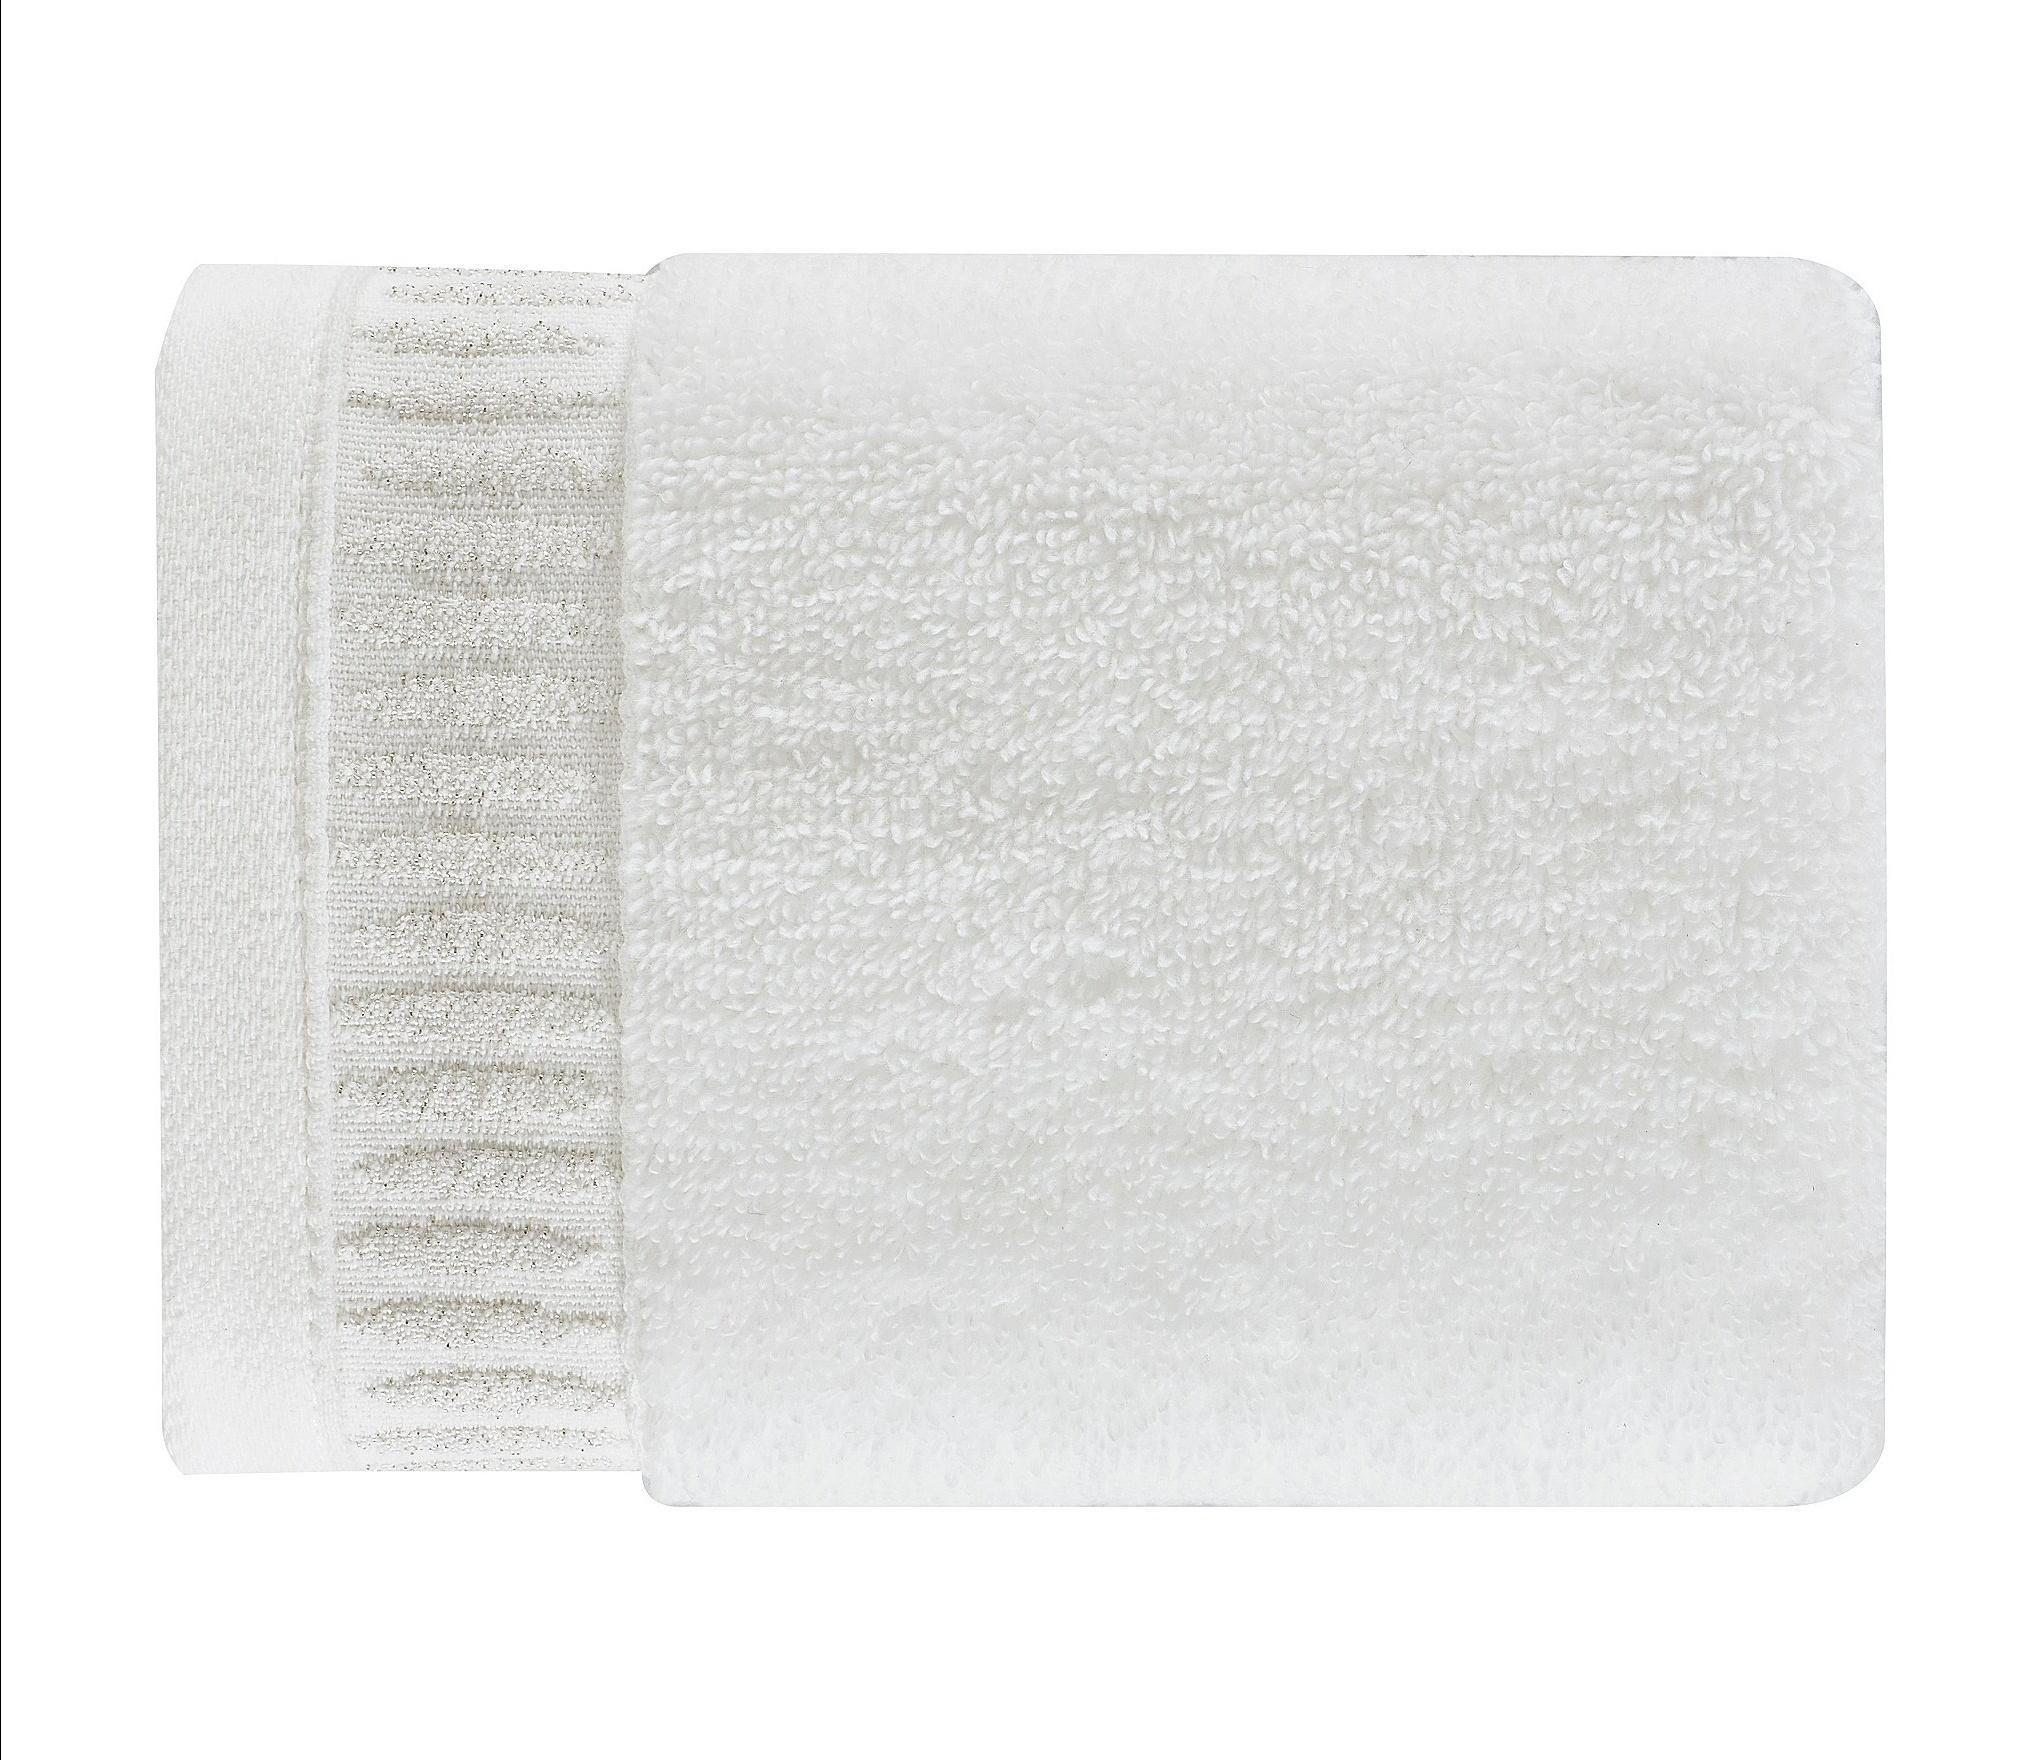towel: (95, 194, 1960, 1620)
